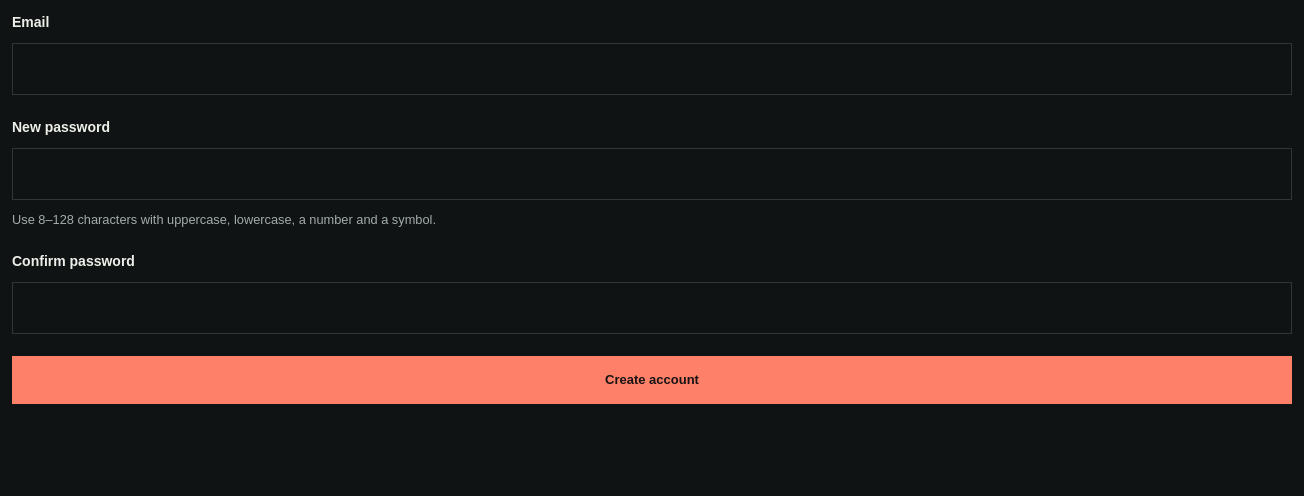
Test: accepts an eight-character password in Create account
In the field labelled "Email": (652, 69) [12,43,1292,95], type "learner@example.test"
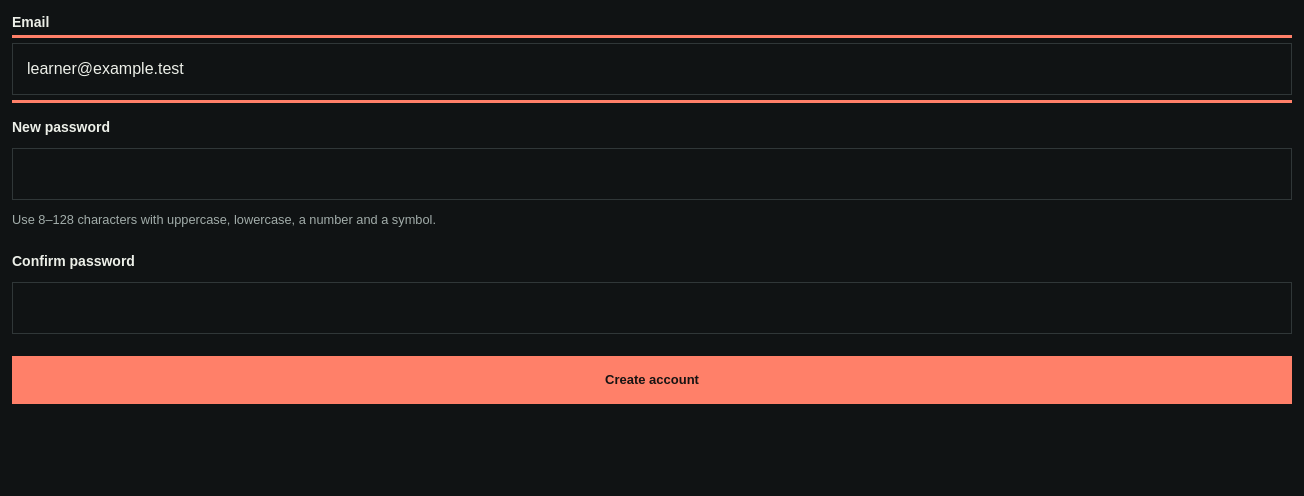
In the password field labelled "New password": (652, 174) [12,148,1292,200], type "Abcd123!"
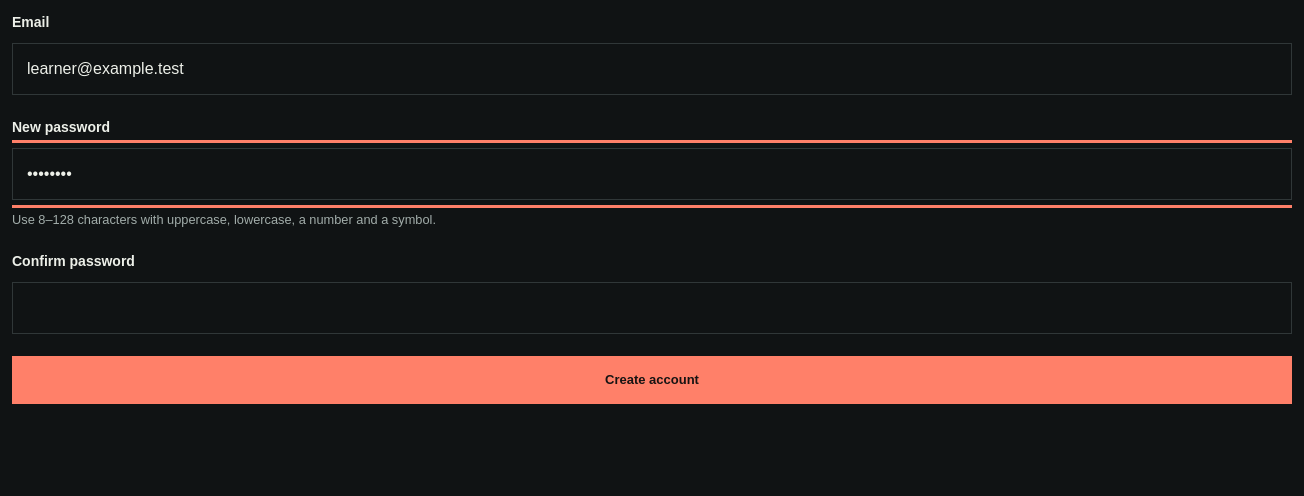
In the password field labelled "Confirm password": (652, 308) [12,282,1292,334], type "Abcd123!"
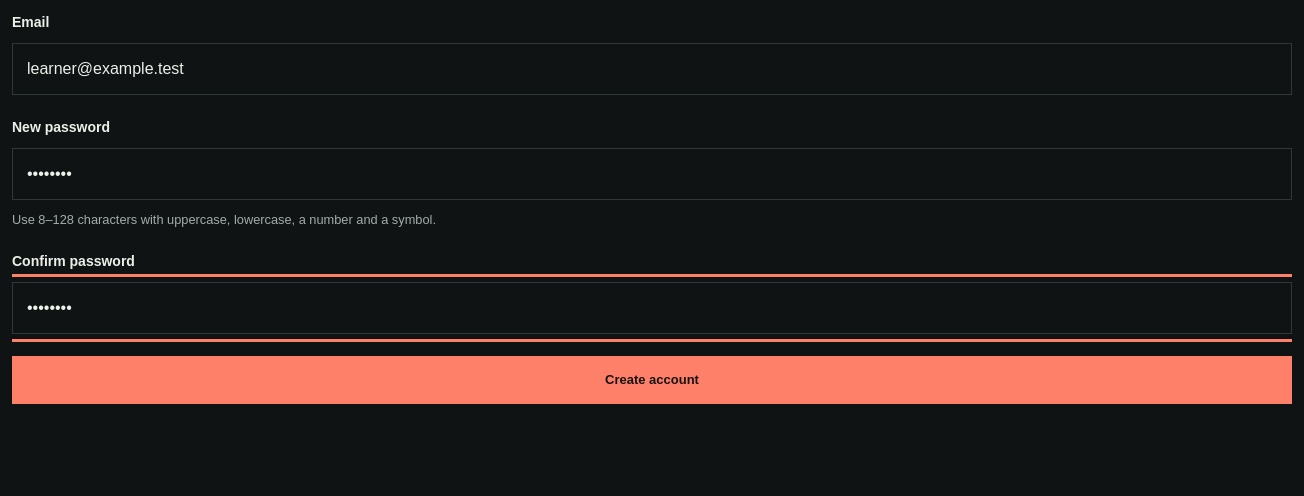
Click the button "Create account": (652, 380) [12,356,1292,404]
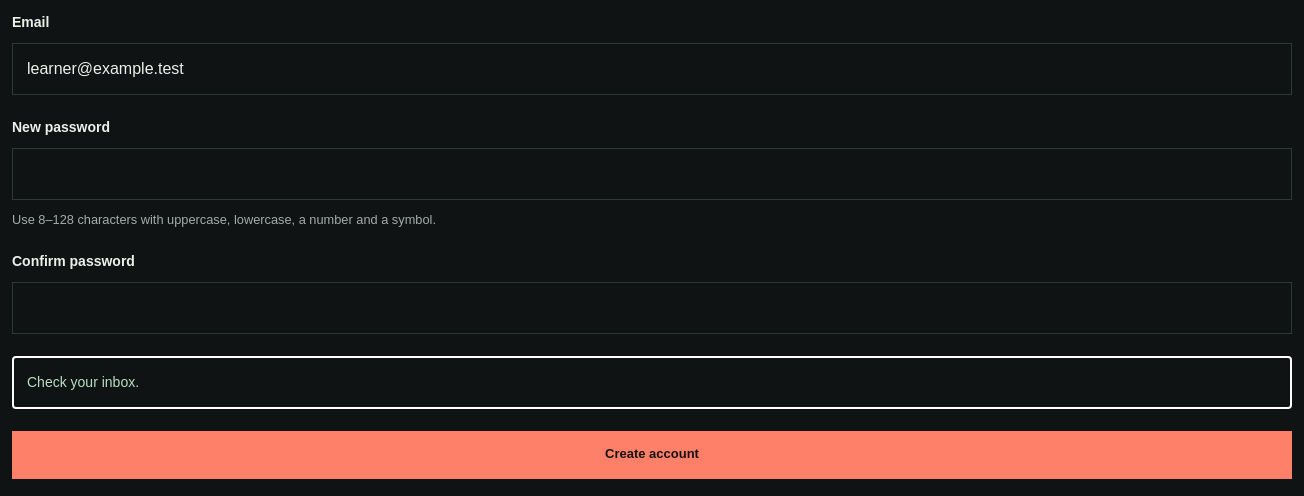
Result: the message "Check your inbox." is shown at [12,356,1292,409]
